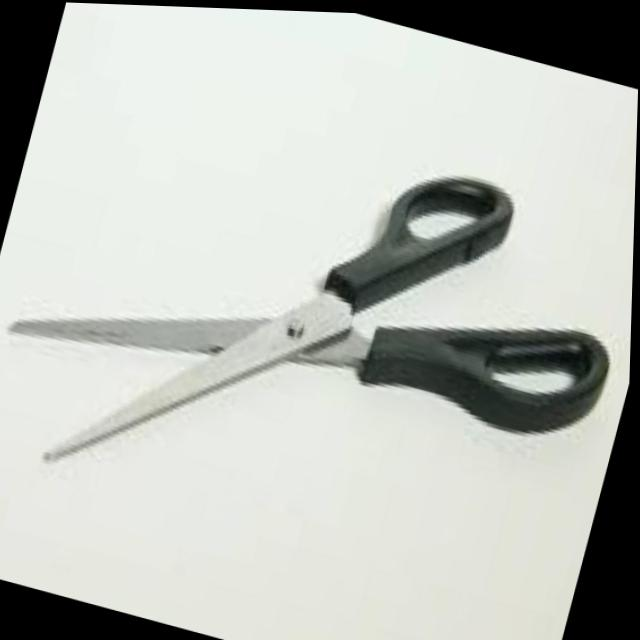scissor: (0, 66, 638, 597)
